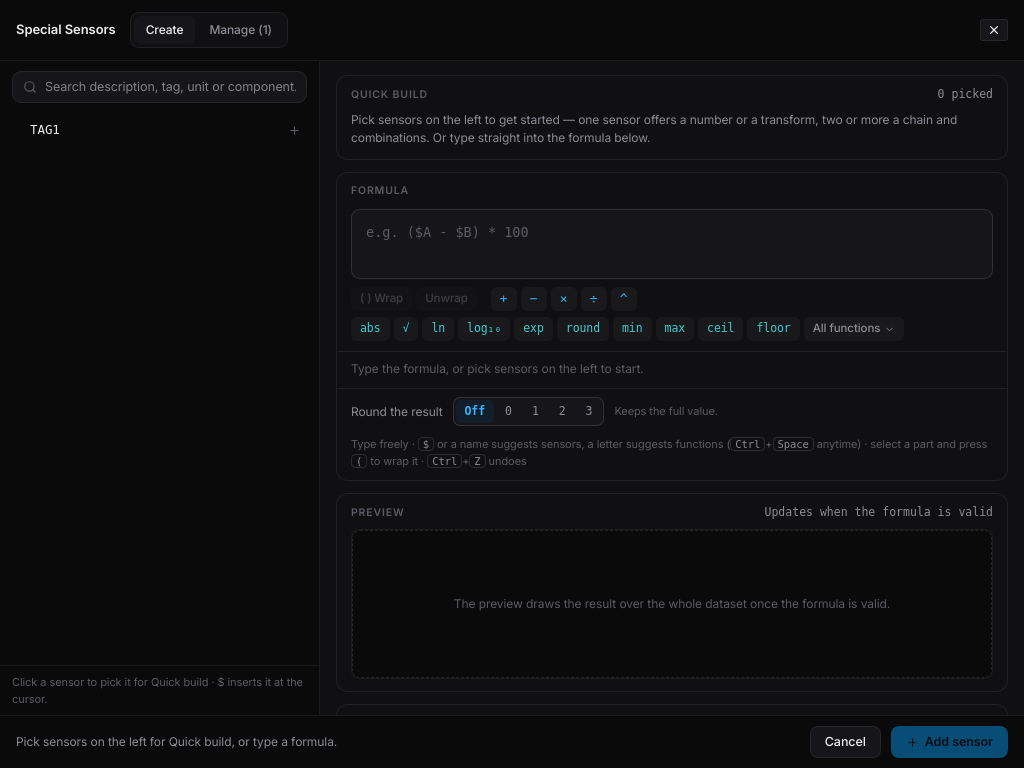
AddSensorWindow › undo puts the sensor back and never tells the Dashboard
This screenshot has width=1024, height=768.
What coordinates should you click on to do the following:
click the tab "Manage (1)"
I would click on:
 (241, 30)
Its box is [197, 16, 284, 44].
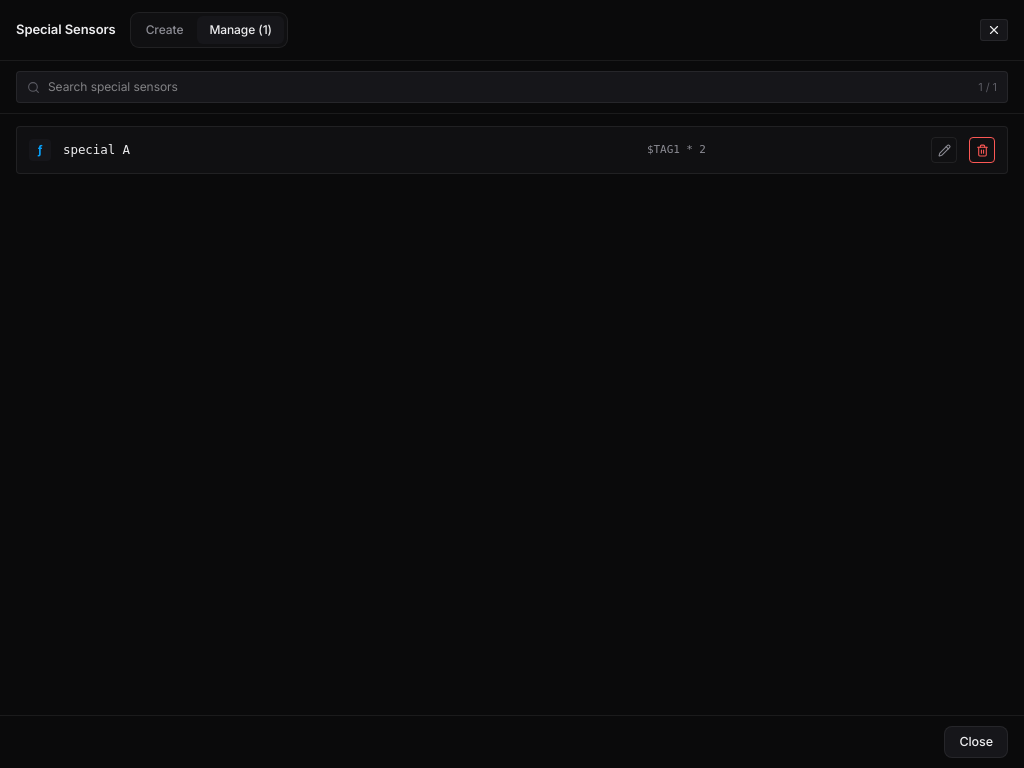
What coordinates should you click on to do the following:
click the button named "Delete special A"
I would click on:
 (982, 150)
Its box is [969, 137, 995, 163].
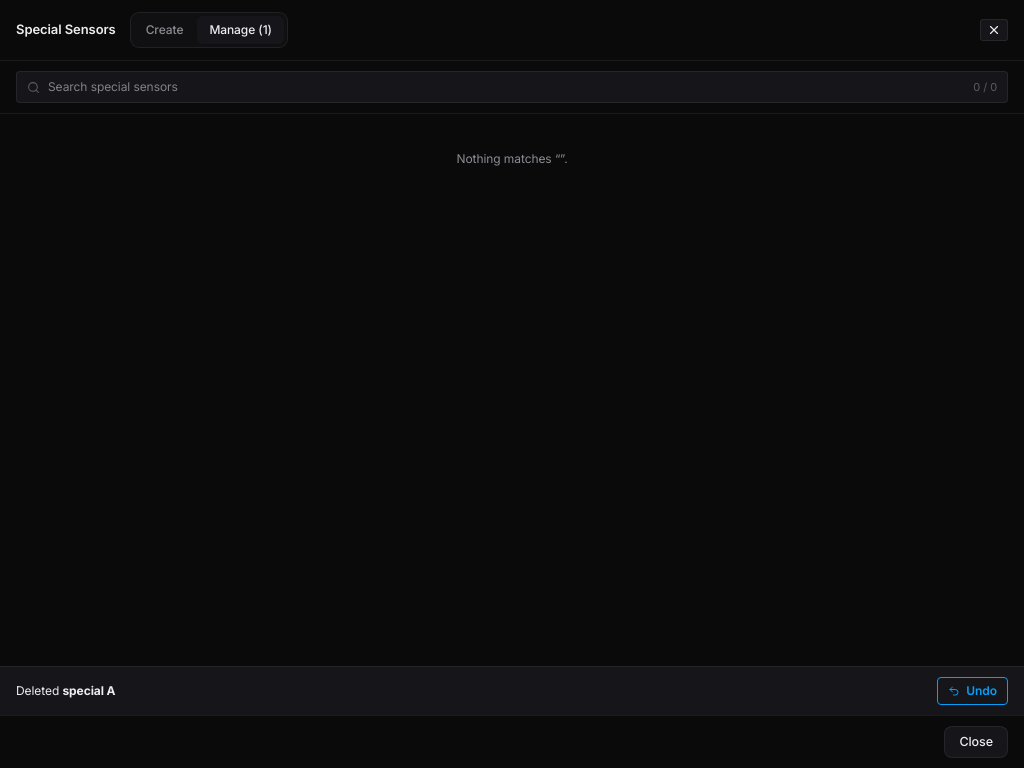
What coordinates should you click on to do the following:
click the button "Undo"
I would click on:
 (973, 691)
Its box is [937, 677, 1008, 705].
Wait 20000 ms
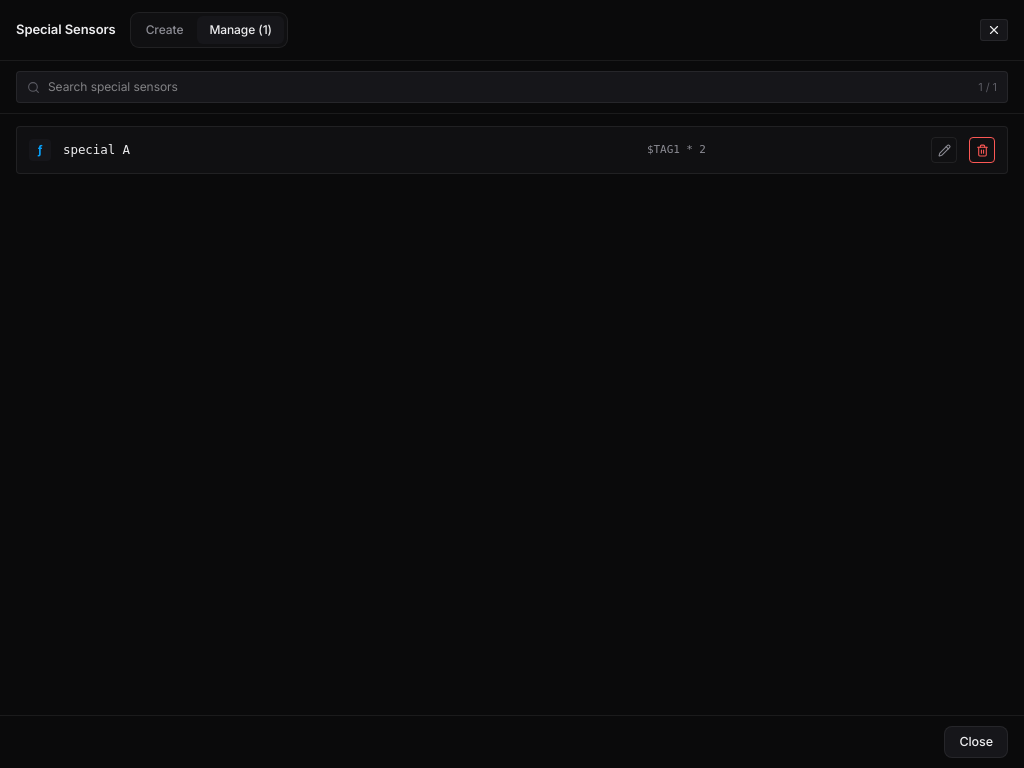
Expected: the button named "Delete special A" is shown, [969, 137, 995, 163]
